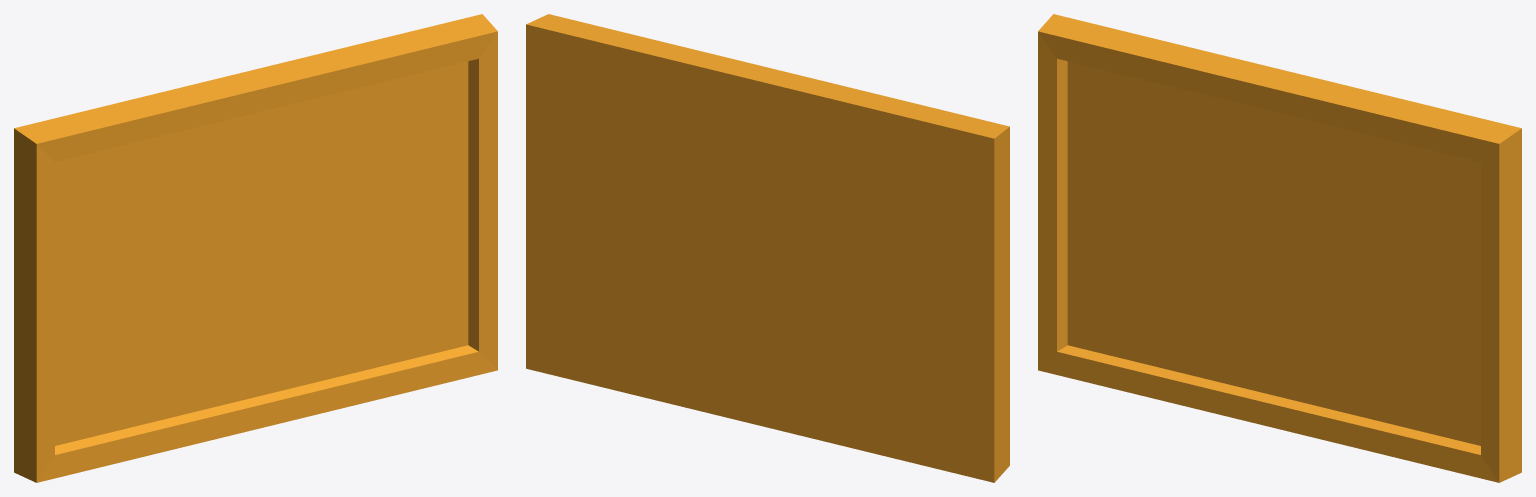
Rendered from SM_Sign_Blackboard_Pumpkin.fbx.
3 views of the same model, side by side, from view 1: azimuth 30°, elevation 25°; view 2: azimuth 150°, elevation 25°; view 3: azimuth 330°, elevation 25° (orthographic).
Parts seen in each view (by area): view 1: sign-blackboard-pumpkin; view 2: sign-blackboard-pumpkin; view 3: sign-blackboard-pumpkin.
Part boxes in pixels (left/top/right/bottom): sign-blackboard-pumpkin: left=14, top=14, right=497, bottom=482; sign-blackboard-pumpkin: left=526, top=14, right=1009, bottom=482; sign-blackboard-pumpkin: left=1038, top=14, right=1521, bottom=482.
Bounding box in the file's own units: 0.7119 × 0.4999 × 0.05.
